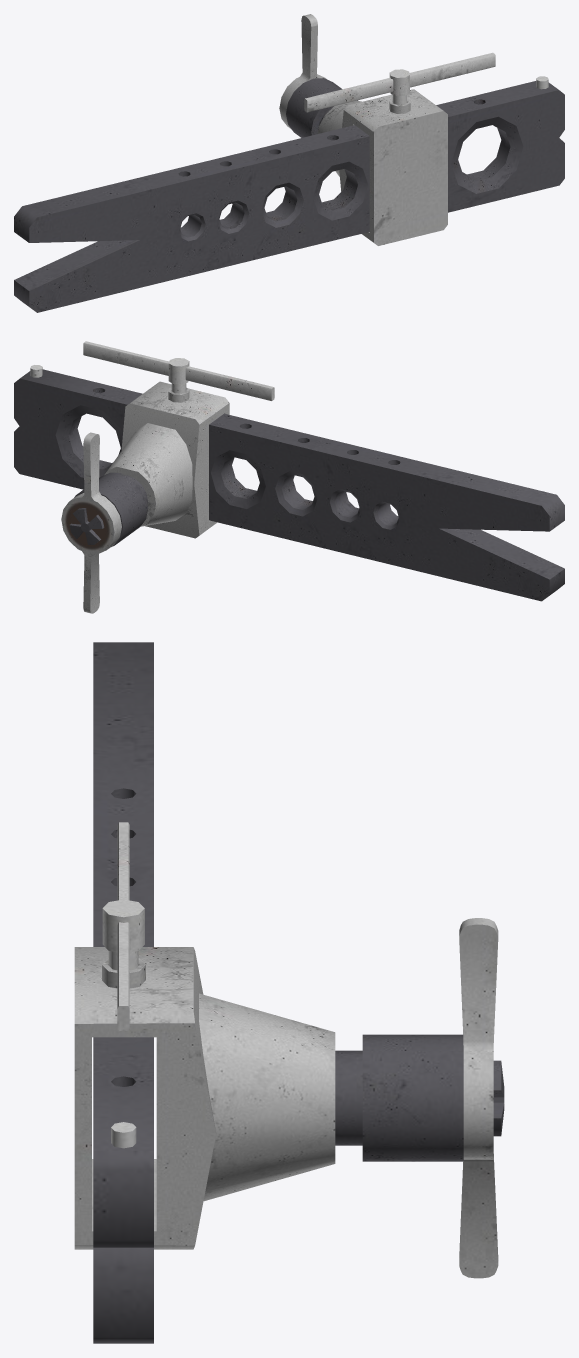
File: tool_rolling.glb
The picture shows the model from 3 angles, top to bottom: view 1: azimuth 30°, elevation 25°; view 2: azimuth 150°, elevation 25°; view 3: azimuth 270°, elevation 25°; orthographic projection. The views are drawn at different scales.
Parts seen in each view (by area): view 1: tool_Rolling_with_an_eccentric; view 2: tool_Rolling_with_an_eccentric; view 3: tool_Rolling_with_an_eccentric.
Part boxes in pixels (x1,y1,x2,y2): tool_Rolling_with_an_eccentric: (14, 14, 564, 312); tool_Rolling_with_an_eccentric: (14, 341, 564, 613); tool_Rolling_with_an_eccentric: (74, 642, 504, 1343).
Size of the model in its own units: 0.401 by 0.1316 by 0.1393.
Materials: 1 (1 with a texture image).
